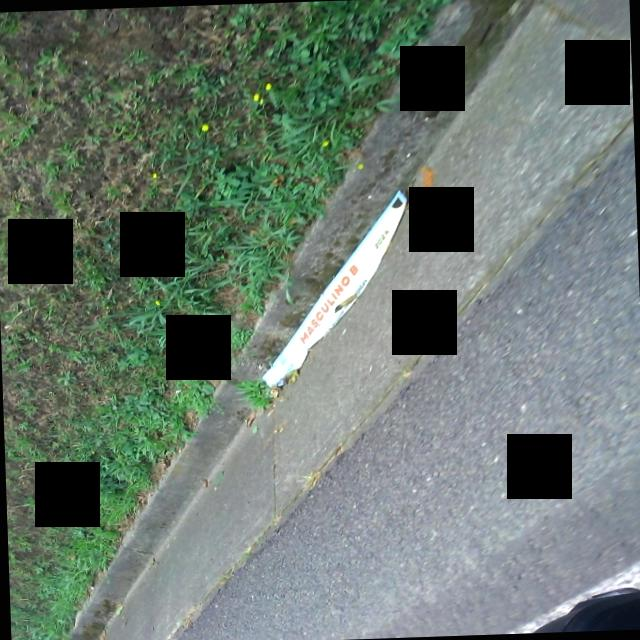DITCH: (21, 0, 640, 640), (39, 0, 640, 640), (113, 0, 640, 640)
